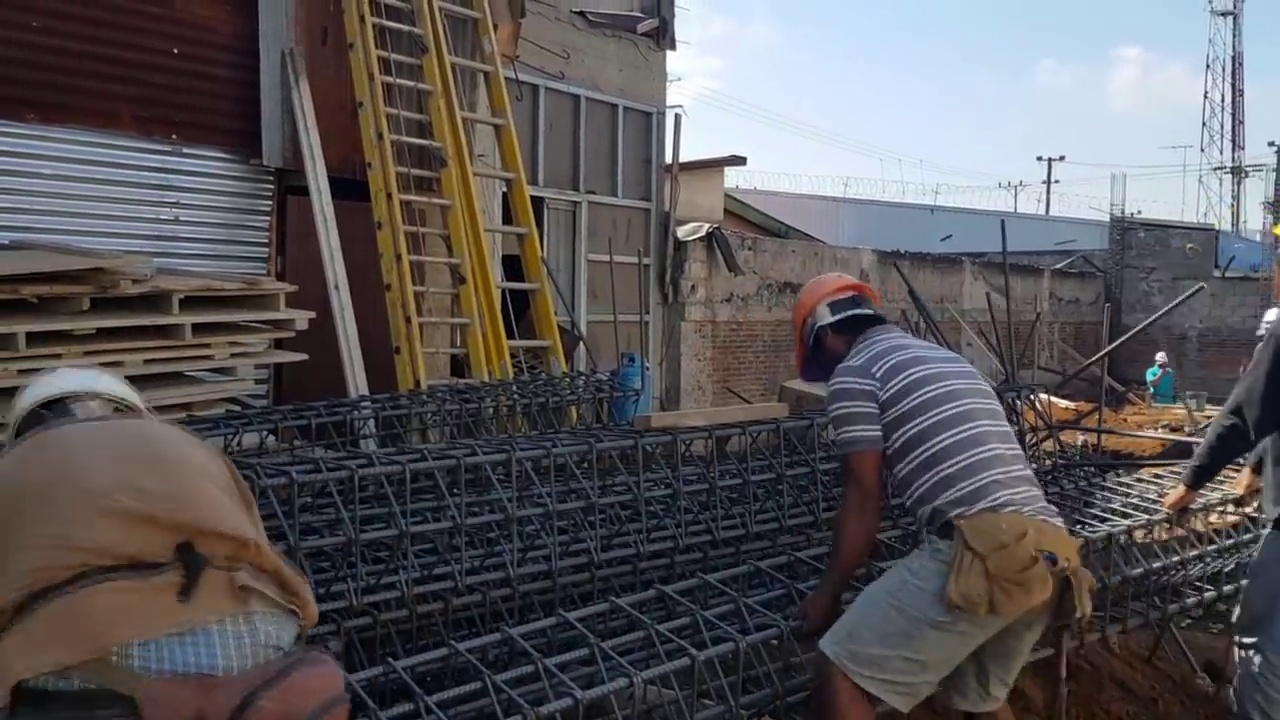helmet: (0, 364, 150, 424), (790, 272, 880, 371), (1153, 352, 1169, 363)
helmet-on: (1, 359, 159, 452), (788, 271, 890, 380), (1153, 352, 1170, 370)
person: (786, 273, 1082, 713), (0, 362, 350, 720), (1150, 262, 1280, 720), (1145, 355, 1176, 401)
